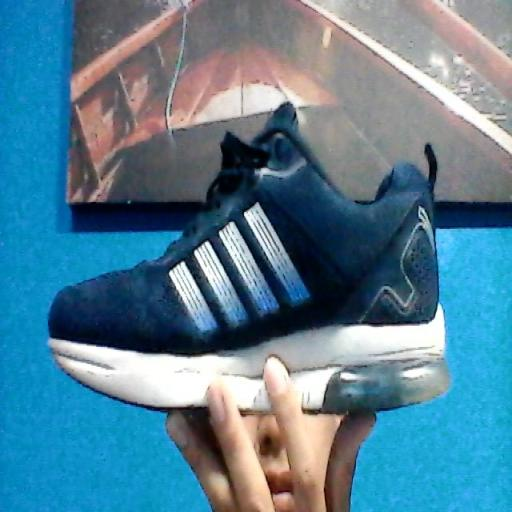shoe: (49, 104, 449, 412)
